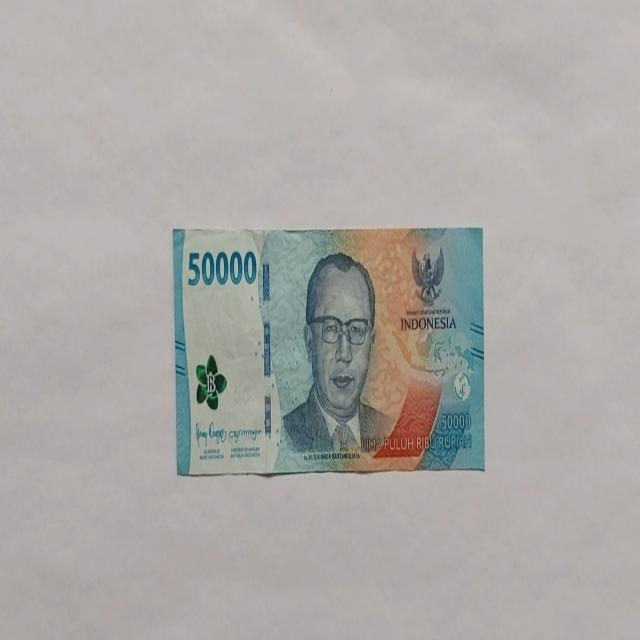lima puluh ribu rupiah: (172, 225, 484, 478), (279, 250, 397, 462)
